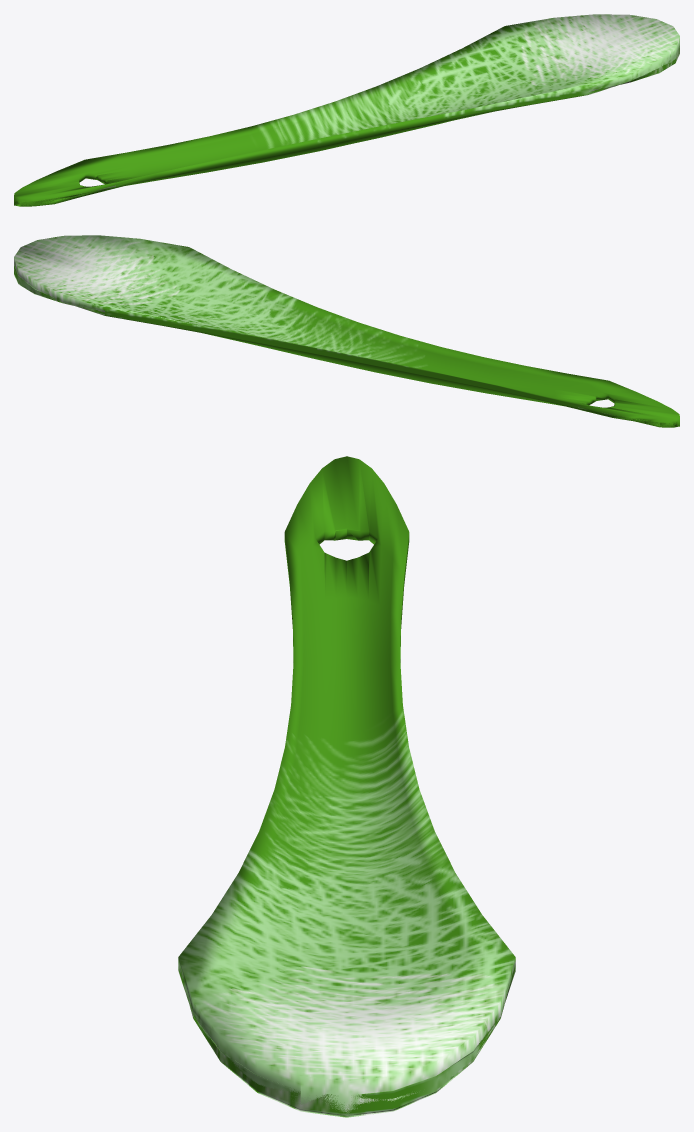
File: LOJOCHKA.obj
The picture shows the model from 3 angles, top to bottom: view 1: azimuth 30°, elevation 25°; view 2: azimuth 150°, elevation 25°; view 3: azimuth 270°, elevation 25°; orthographic projection. The views are drawn at different scales.
Visible parts, largest first — view 1: Box001; view 2: Box001; view 3: Box001.
Boxes of the visible parts, x1,y1,x2,y2 form: Box001: [14, 14, 679, 206]; Box001: [14, 235, 679, 427]; Box001: [178, 456, 515, 1117].
Bounding box in the file's own units: 532 × 26.88 × 118.
1 material, 1 textured.
